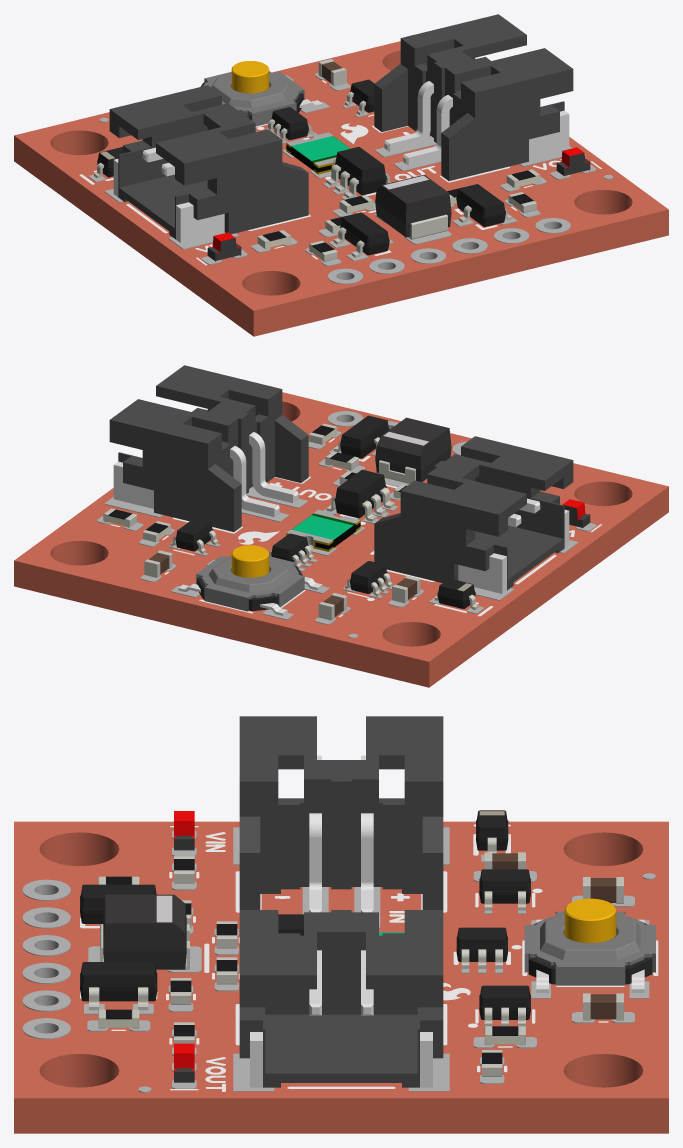
File: Soft_Power_Switch_JST_2mm_3D_Model.glb
3 renders of one model, top to bottom at view 1: azimuth 30°, elevation 25°; view 2: azimuth 150°, elevation 25°; view 3: azimuth 270°, elevation 25°, orthographic. The views are drawn at different scales.
Visible parts, largest first — view 1: =>[0:1:1:29], =>[0:1:1:10] (×2), =>[0:1:1:27], C2, =>[0:1:1:22], Q3, =>[0:1:1:28], Q1, Q2, F1, =>[0:1:1:8], =>[0:1:1:11] (+9 smaller); view 2: =>[0:1:1:29], =>[0:1:1:10] (×2), =>[0:1:1:27], C2, =>[0:1:1:22], Q3, F1, =>[0:1:1:28], Q2, =>[0:1:1:9], =>[0:1:1:12], =>[0:1:1:21] (+10 smaller); view 3: =>[0:1:1:29], =>[0:1:1:10] (×2), =>[0:1:1:27], =>[0:1:1:22], C2, =>[0:1:1:28], Q2, =>[0:1:1:21], U4, U3, U2, Q1 (+15 smaller).
Part boxes in pixels (left/top/right/bottom): =>[0:1:1:29]: left=14, top=41, right=668, bottom=336; =>[0:1:1:10] (×2): left=109, top=14, right=573, bottom=239; =>[0:1:1:27]: left=88, top=72, right=613, bottom=284; C2: left=375, top=175, right=451, bottom=239; =>[0:1:1:22]: left=203, top=71, right=304, bottom=126; Q3: left=326, top=147, right=390, bottom=198; =>[0:1:1:28]: left=79, top=80, right=601, bottom=265; Q1: left=333, top=212, right=389, bottom=257; Q2: left=456, top=184, right=512, bottom=226; F1: left=286, top=132, right=350, bottom=174; =>[0:1:1:8]: left=176, top=202, right=224, bottom=242; =>[0:1:1:11]: left=384, top=81, right=433, bottom=152; =>[0:1:1:29]: left=14, top=392, right=668, bottom=687; =>[0:1:1:10] (×2): left=109, top=365, right=573, bottom=590; =>[0:1:1:27]: left=97, top=411, right=596, bottom=638; C2: left=375, top=417, right=451, bottom=483; =>[0:1:1:22]: left=196, top=555, right=304, bottom=611; Q3: left=326, top=469, right=394, bottom=521; F1: left=286, top=509, right=360, bottom=551; =>[0:1:1:28]: left=110, top=438, right=601, bottom=617; Q2: left=333, top=415, right=389, bottom=458; =>[0:1:1:9]: left=249, top=432, right=298, bottom=503; =>[0:1:1:12]: left=458, top=553, right=506, bottom=593; =>[0:1:1:21]: left=231, top=545, right=269, bottom=577; =>[0:1:1:29]: left=14, top=821, right=668, bottom=1133; =>[0:1:1:10] (×2): left=239, top=716, right=443, bottom=1087; =>[0:1:1:27]: left=22, top=827, right=655, bottom=1092; =>[0:1:1:22]: left=524, top=911, right=655, bottom=985; C2: left=100, top=894, right=189, bottom=969; =>[0:1:1:28]: left=80, top=824, right=658, bottom=1091; Q2: left=80, top=962, right=157, bottom=1010; =>[0:1:1:21]: left=564, top=898, right=616, bottom=943; U4: left=456, top=927, right=507, bottom=968; U3: left=479, top=985, right=530, bottom=1026; U2: left=479, top=869, right=530, bottom=910; Q1: left=80, top=884, right=156, bottom=923.
Size of the model in its own units: 0.0254 by 0.00647 by 0.0254.
